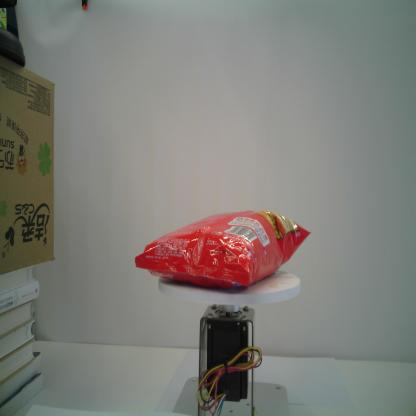Puffed Food: (133, 208, 313, 292)
